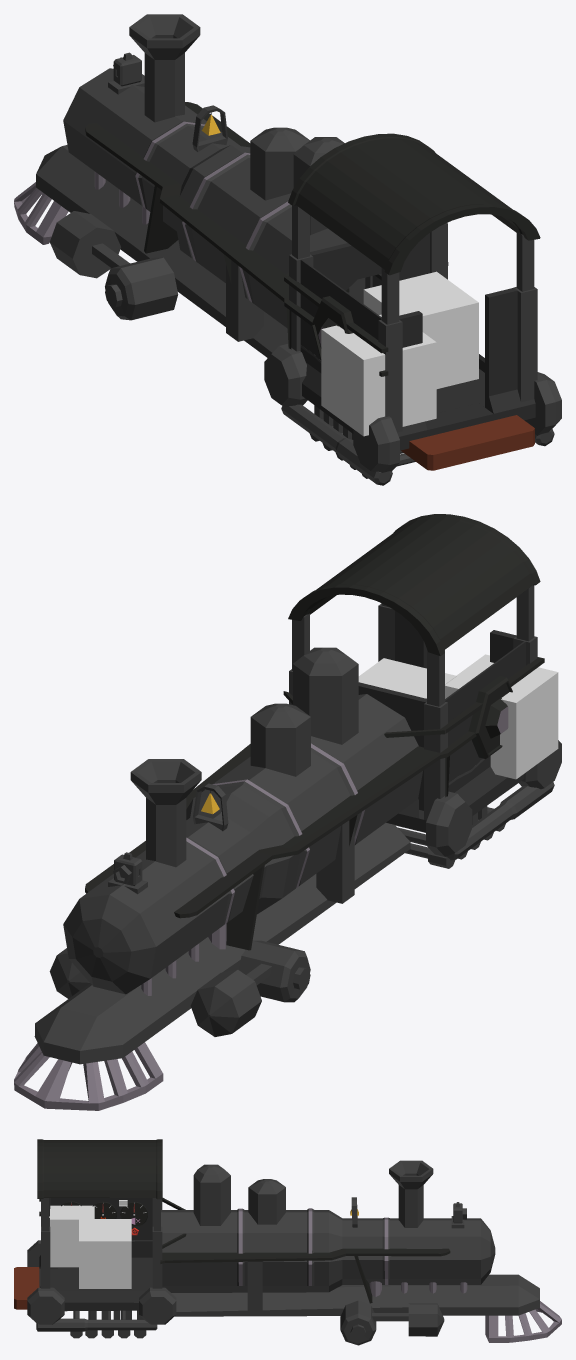
The model's file is headtrain1.fbx.
The picture shows the model from 3 angles, top to bottom: view 1: azimuth 30°, elevation 25°; view 2: azimuth 150°, elevation 25°; view 3: azimuth 270°, elevation 25°; orthographic projection. The views are drawn at different scales.
Parts seen in each view (by area): view 1: Cylinder, Cylinder.014, Cube.005, Cube.006, Cube.001, Cylinder.003, Cylinder.002, Cube.004, Cylinder.001, Cube.015, Cube.008, Cylinder.006 (+3 smaller); view 2: Cylinder, Cylinder.014, Cylinder.002, Cube.001, Cylinder.003, Cube.006, Cube.005, Cylinder.001, Cube.004, Cube.002, Cylinder.006, Cube.015 (+3 smaller); view 3: Cylinder, Cylinder.002, Cylinder.014, Cylinder.003, Cube.005, Cube.006, Cube.001, Cube.015, Cylinder.001, Cube.004, Cylinder.006, Cube.002 (+6 smaller).
Boxes of the visible parts, x1,y1,x2,y2 form: Cylinder: [63, 68, 381, 328]; Cylinder.014: [288, 133, 540, 275]; Cube.005: [300, 233, 535, 450]; Cube.006: [264, 205, 561, 472]; Cube.001: [85, 102, 448, 376]; Cylinder.003: [129, 14, 344, 235]; Cylinder.002: [36, 145, 288, 357]; Cube.004: [321, 314, 436, 436]; Cylinder.001: [50, 211, 178, 320]; Cube.015: [363, 271, 478, 388]; Cube.008: [401, 415, 534, 470]; Cylinder.006: [281, 404, 554, 485]; Cylinder: [63, 694, 422, 994]; Cylinder.014: [288, 514, 540, 655]; Cylinder.002: [34, 823, 410, 1064]; Cube.001: [85, 657, 544, 950]; Cylinder.003: [130, 647, 358, 867]; Cube.006: [289, 585, 561, 856]; Cube.005: [358, 611, 525, 832]; Cylinder.001: [49, 940, 310, 1036]; Cube.004: [445, 654, 558, 779]; Cube.002: [14, 1042, 163, 1110]; Cylinder.006: [395, 782, 554, 868]; Cube.015: [358, 658, 456, 698]; Cylinder: [161, 1208, 495, 1292]; Cylinder.002: [171, 1274, 539, 1316]; Cylinder.014: [37, 1139, 162, 1199]; Cylinder.003: [193, 1160, 433, 1227]; Cube.005: [39, 1198, 152, 1311]; Cube.006: [27, 1198, 176, 1324]; Cube.001: [39, 1198, 450, 1314]; Cube.015: [79, 1219, 131, 1288]; Cylinder.001: [340, 1300, 444, 1345]; Cube.004: [49, 1205, 94, 1267]; Cylinder.006: [36, 1310, 157, 1338]; Cube.002: [485, 1301, 561, 1342].
Bounding box in the file's own units: 532 × 746 × 2079.
